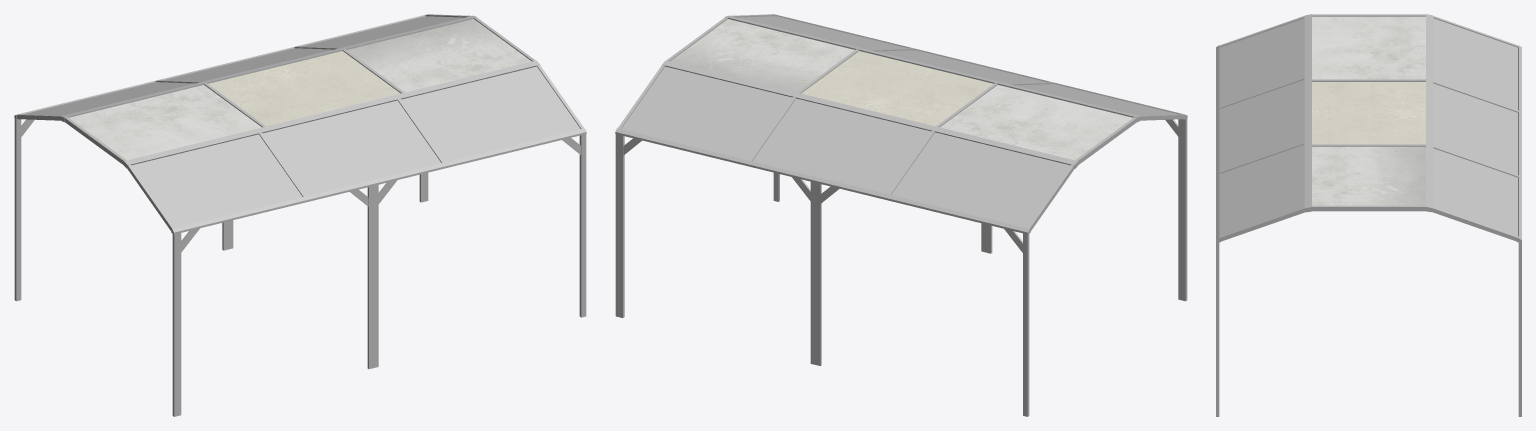
Rendered from raincover05b.fbx.
3 renders of one model, left to right at view 1: azimuth 30°, elevation 25°; view 2: azimuth 150°, elevation 25°; view 3: azimuth 270°, elevation 25°, orthographic. The views are drawn at different scales.
Visible parts, largest first — view 1: raincover05b; view 2: raincover05b; view 3: raincover05b.
Boxes of the visible parts, x1,y1,x2,y2 form: raincover05b: (14, 14, 586, 416); raincover05b: (615, 14, 1187, 416); raincover05b: (1216, 14, 1521, 416).
Bounding box in the file's own units: 1722 × 874 × 1153.
